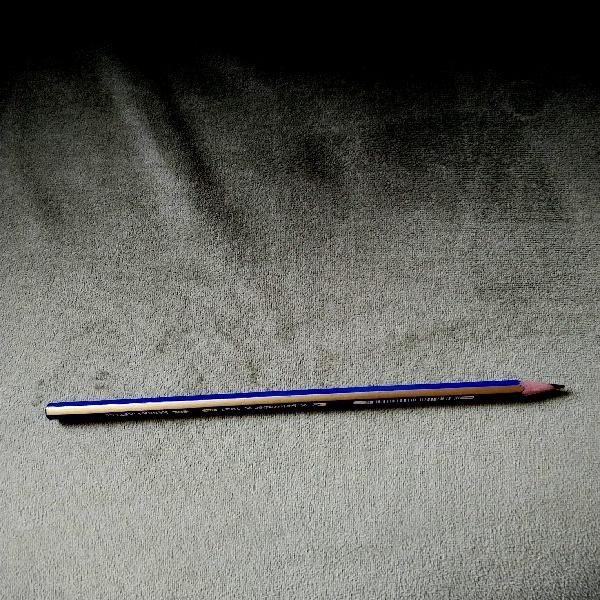pencil: (46, 376, 569, 425)
